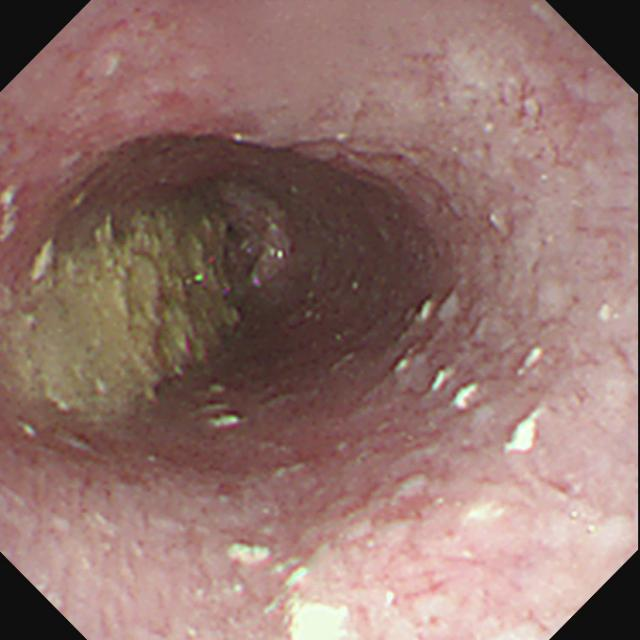B: (10, 199, 238, 428)
J: (388, 345, 545, 456), (228, 541, 311, 594), (286, 597, 353, 640)
